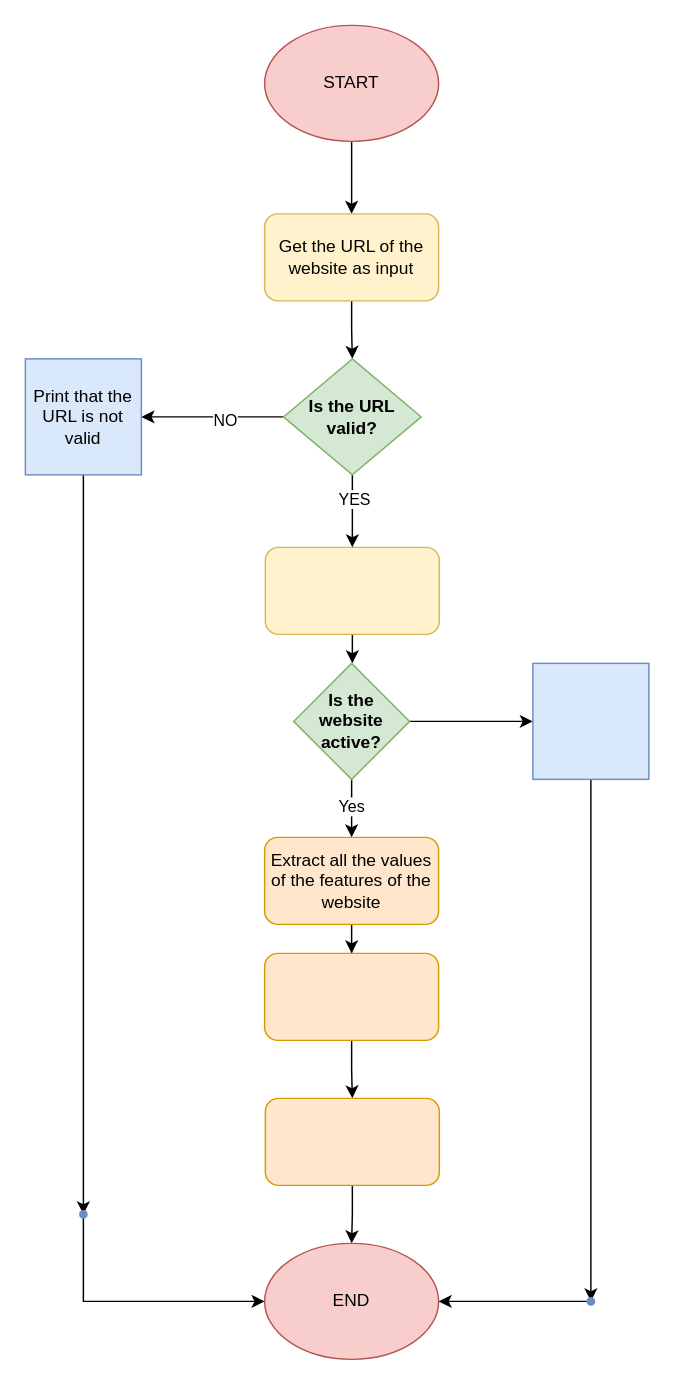
Image size: 674x1385. Some labels were removed from this diagram. The shapes that lost their labels are listed below. From the top down, each one's box as (x1, y1, x2, y2) in pixels, then its label:
(264, 546, 439, 634): Scrape the HTML files of the website
(531, 662, 649, 779): Print that the website is not active
(263, 952, 439, 1040): Give these values to the ML model
(264, 1097, 439, 1185): Predict the class of the website and print it
